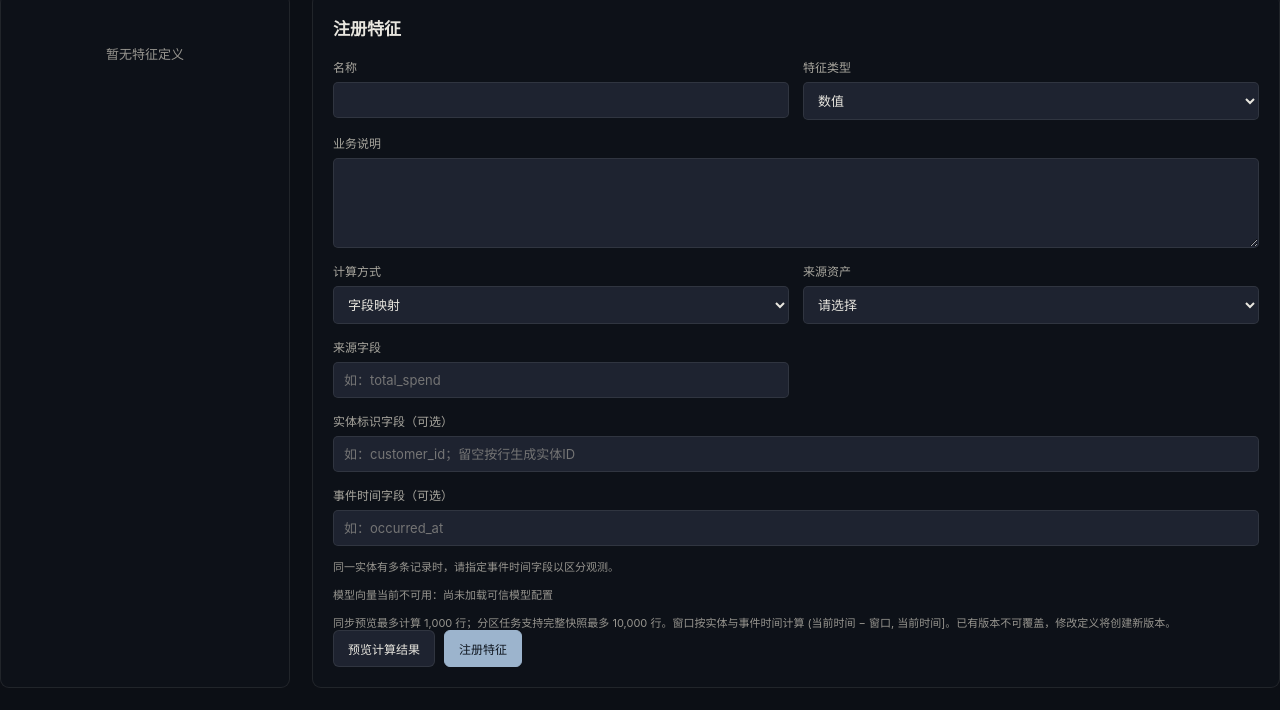
governance create contracts › registers a versioned feature and calculates from its source
(page scrolled)
Type "Spend" into the field labelled "名称" at [561, 100], box [333,82,789,118]
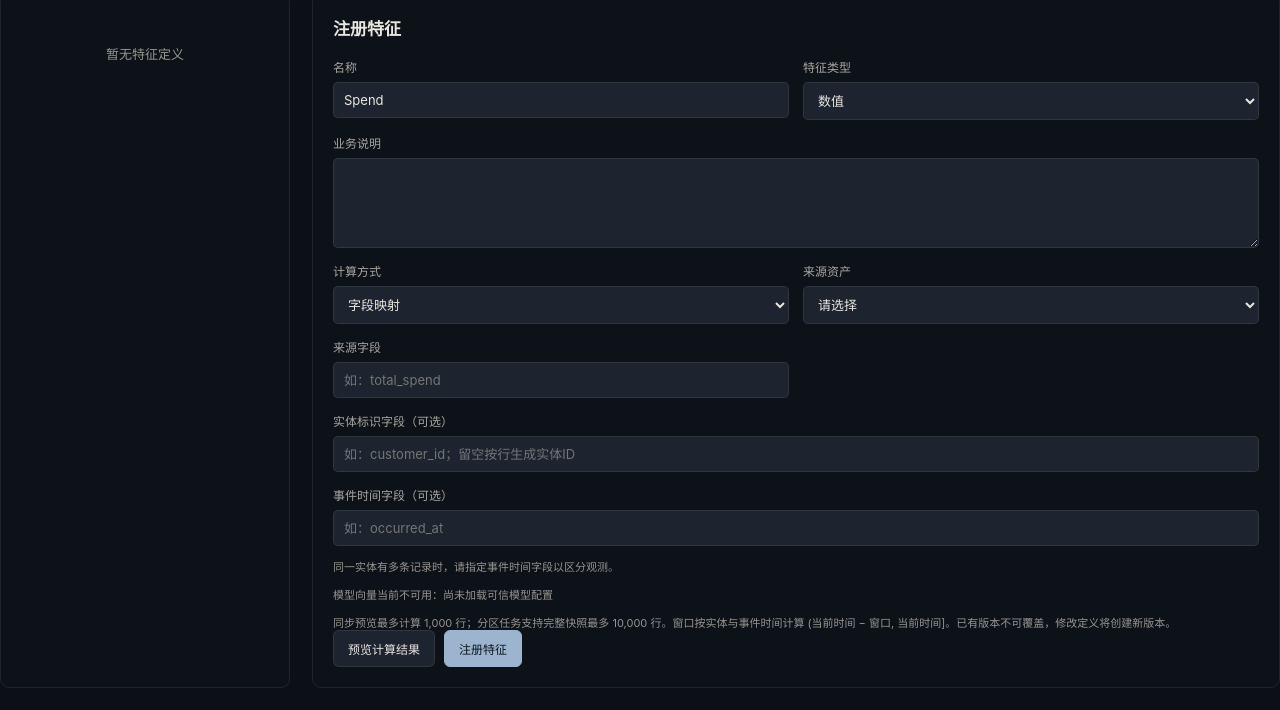
Select "Orders" in the dropdown labelled "来源资产" at [1031, 305], box [803,286,1259,324]
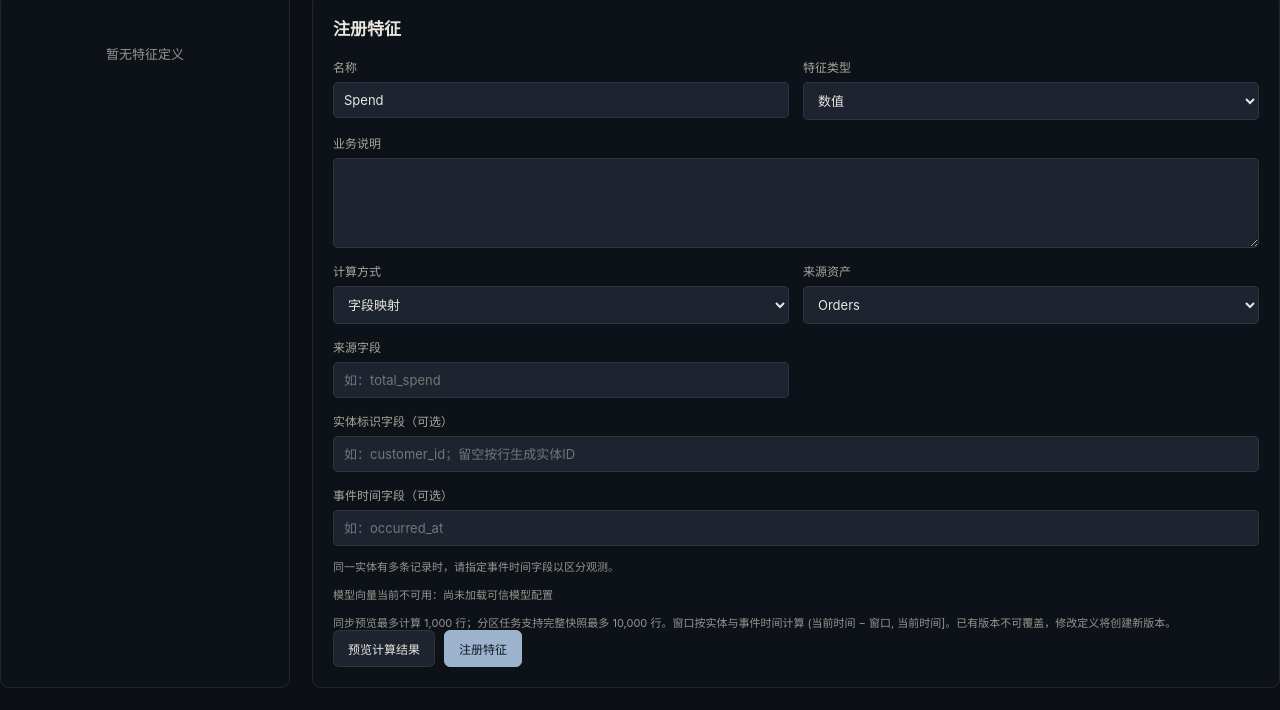
Type "amount" into the field with placeholder "如：total_spend" at [561, 380], box [333,362,789,398]
(page scrolled)
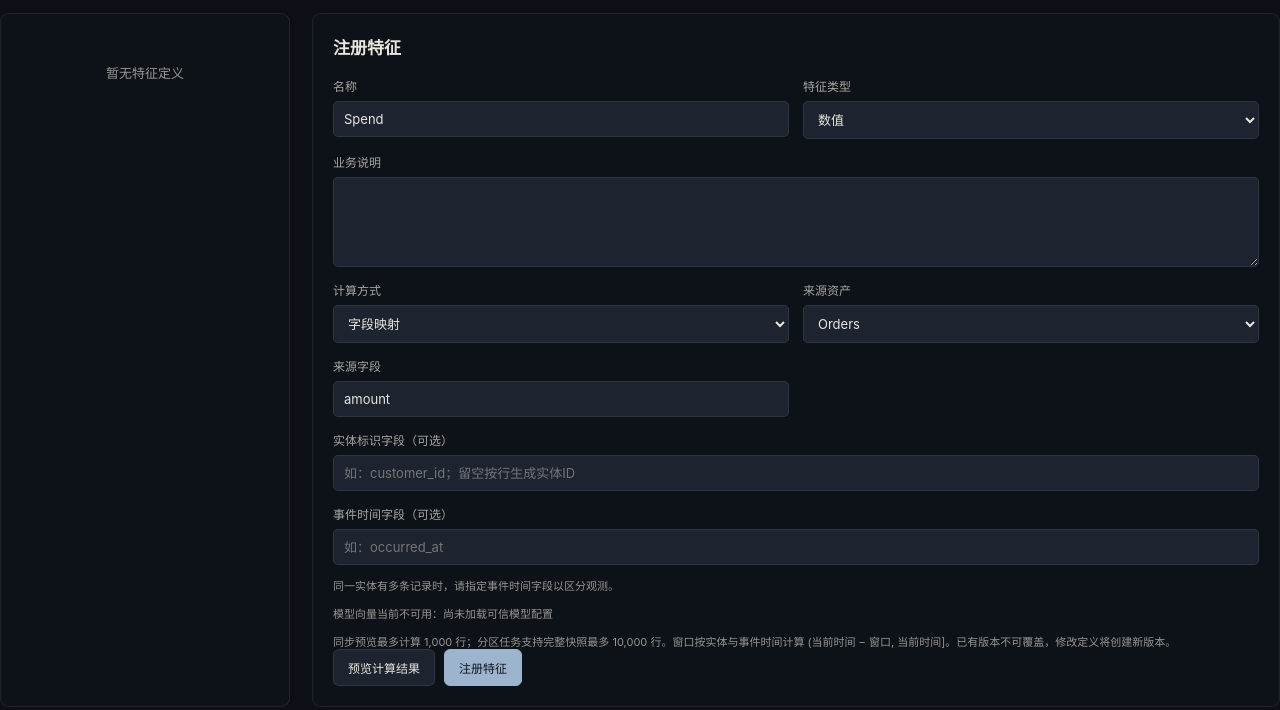
Submit the form
(page scrolled)
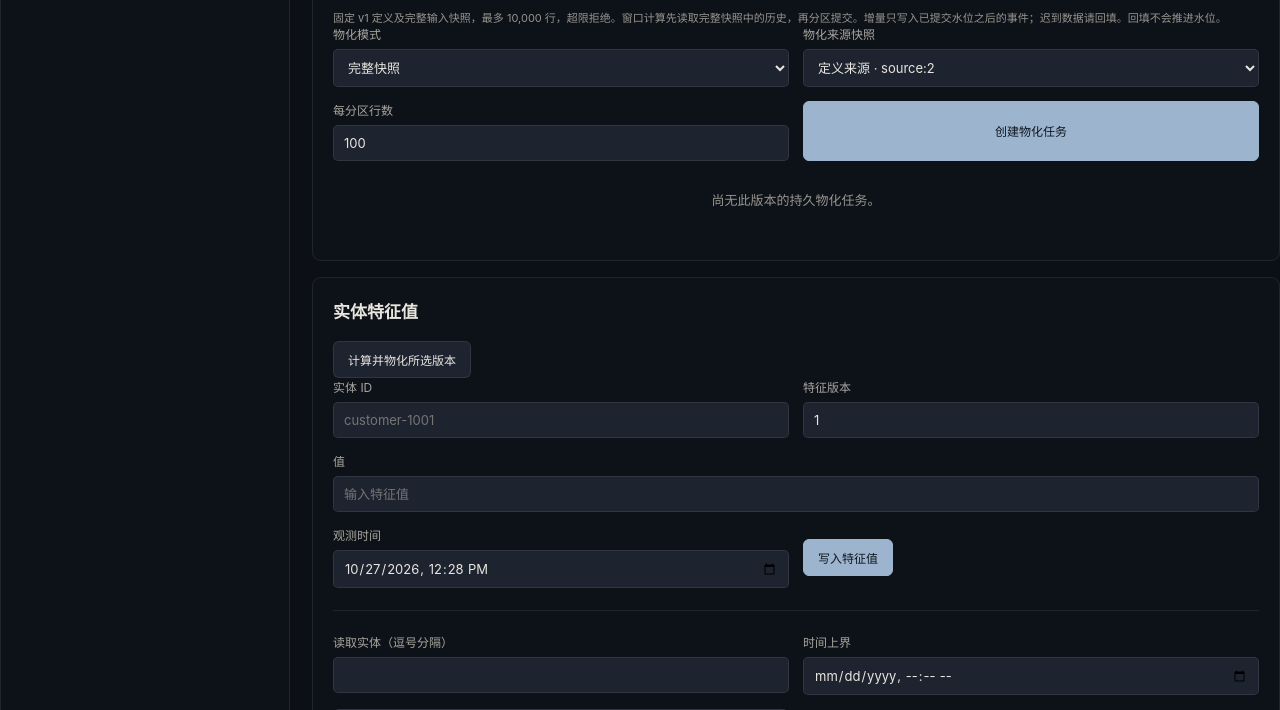
Click the button "计算并物化所选版本" at [402, 360], box [333,341,471,378]
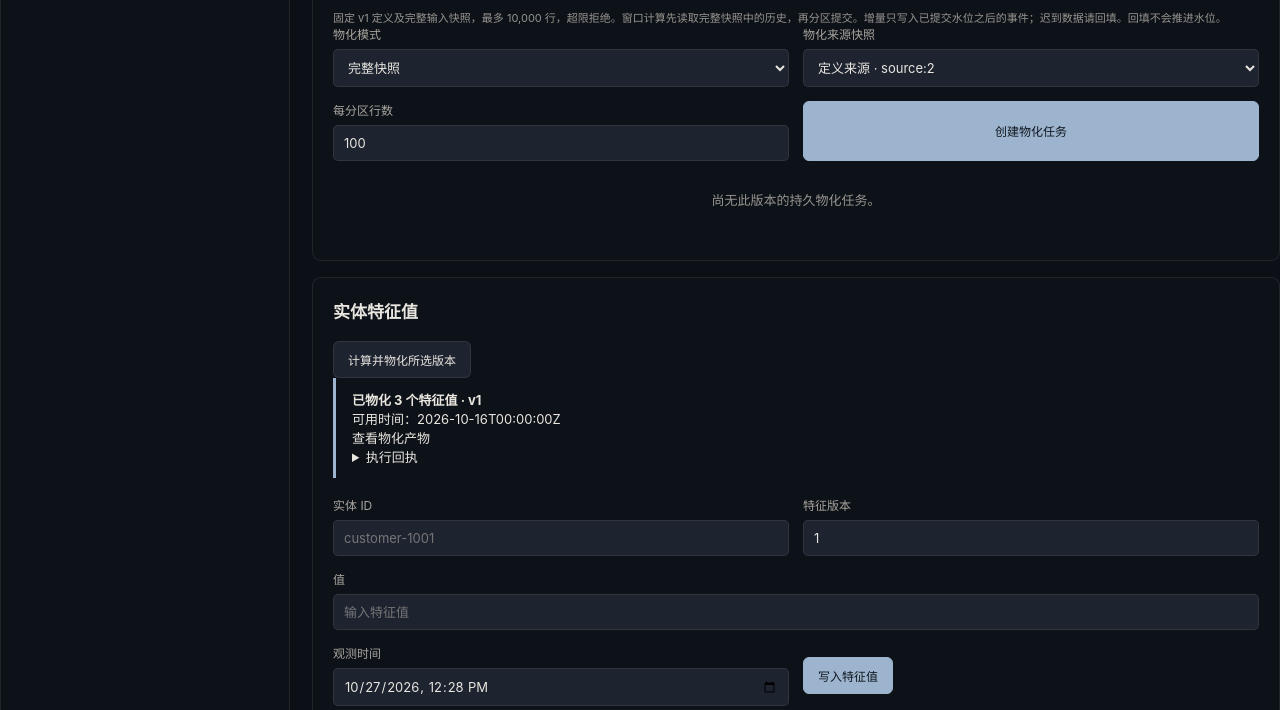
Check: the text "已物化 3 个特征值" is shown, box [352,392,482,408]
